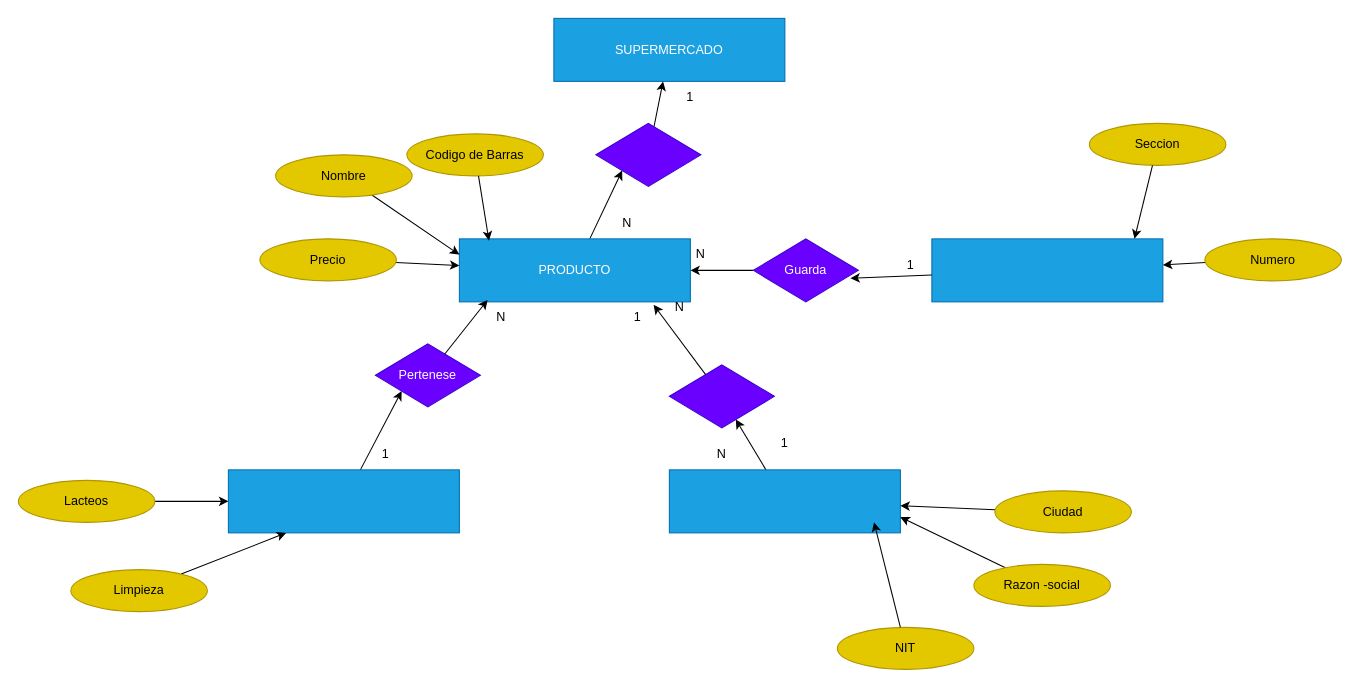
Some shapes in this 1360 by 688 pixel diagram are drawn without their labels. Here are the shapes that lost their labels. From the top down, the centre of each, then its label:
point 648,154: Tiene
point 1047,270: ALMASEN
point 721,396: Costo
point 343,501: CATEGORIAS
point 784,501: PROVEEDORES
